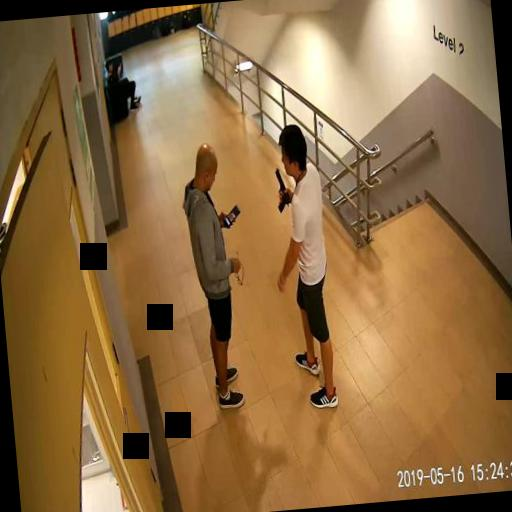Handgun: (273, 164, 289, 212)
